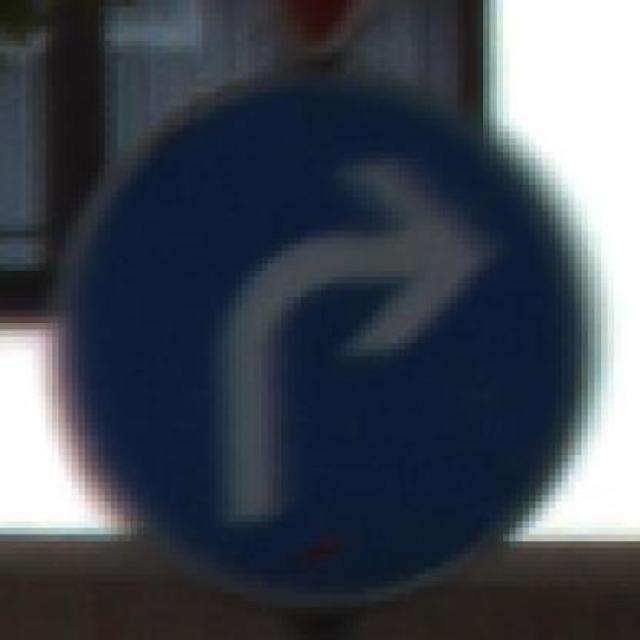Turn right ahead: (52, 66, 600, 620)
